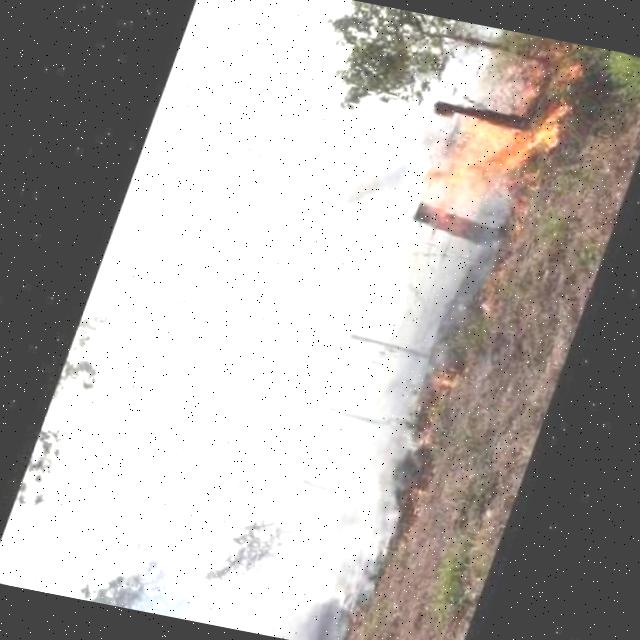fire: (395, 20, 574, 260), (420, 369, 456, 397)
